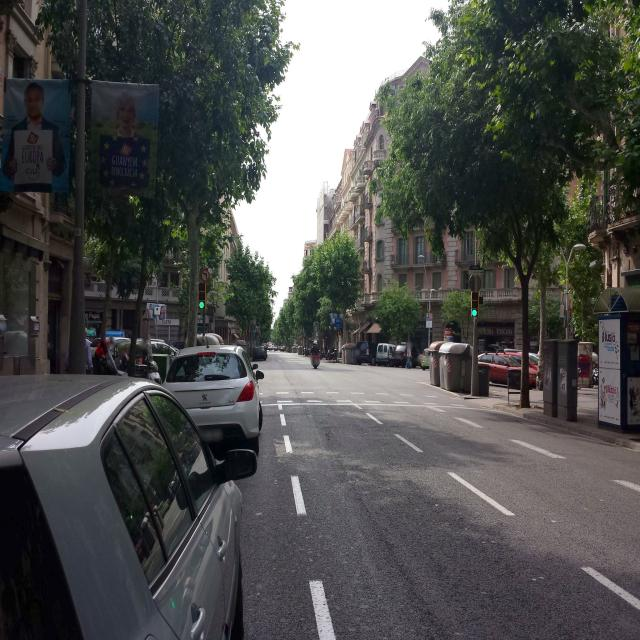bike: (310, 350, 321, 370)
car: (0, 366, 249, 640), (162, 344, 265, 459), (476, 352, 536, 388), (374, 342, 406, 366), (351, 341, 372, 364), (196, 332, 223, 346), (250, 345, 268, 362)
